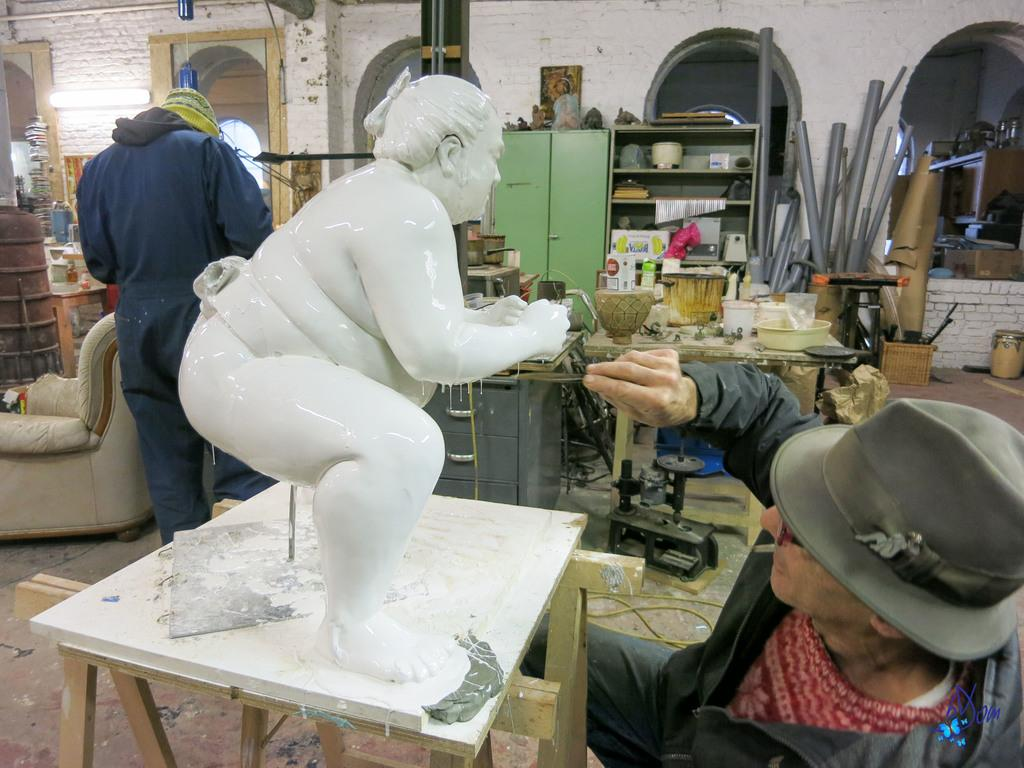Hat: (772, 396, 1023, 660)
